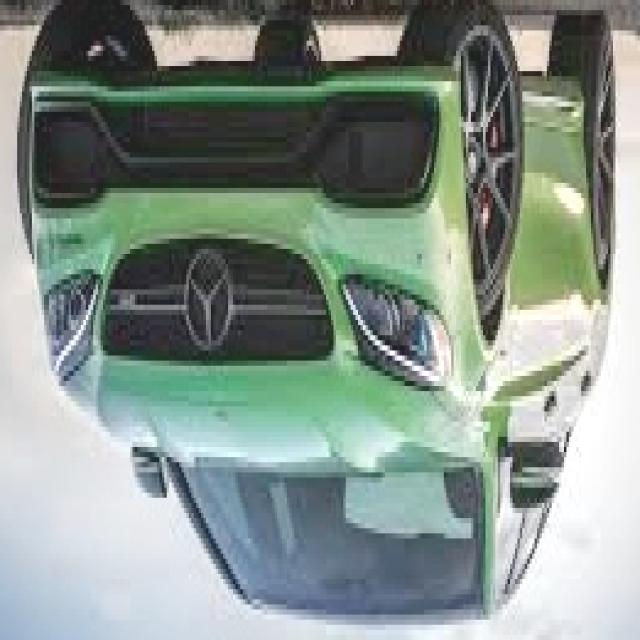green: (16, 0, 614, 624)
